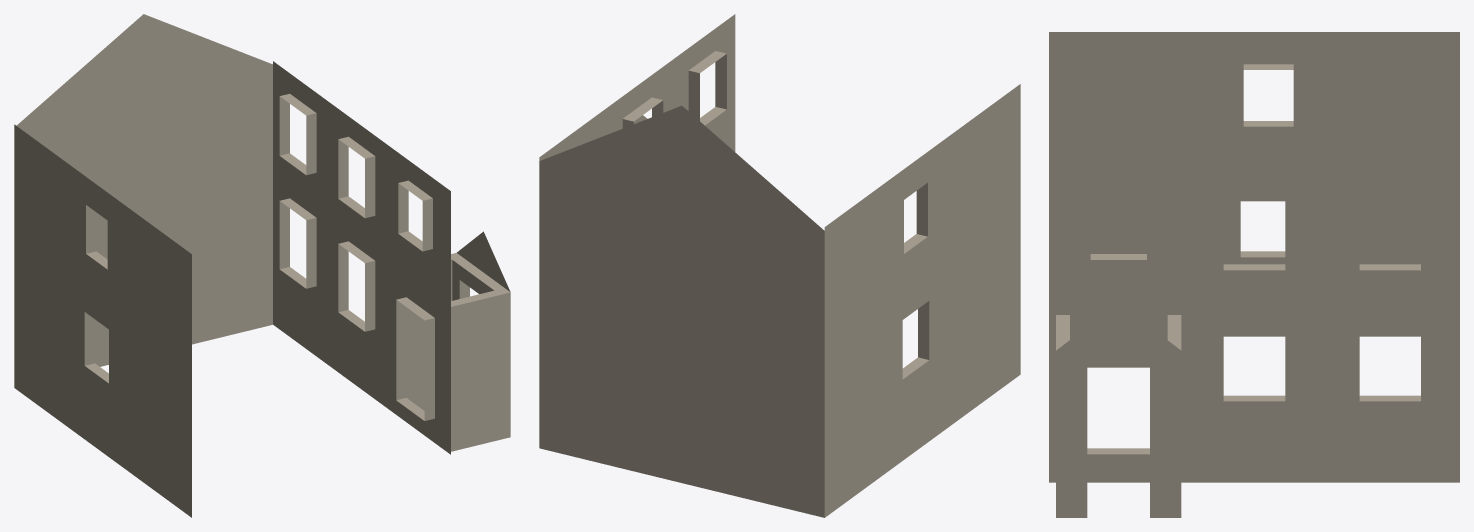
The model's file is SM_Bld_041_Render.glb.
3 views of the same model, side by side, from view 1: azimuth 30°, elevation 25°; view 2: azimuth 150°, elevation 25°; view 3: azimuth 270°, elevation 25° (orthographic). The views are drawn at different scales.
Parts seen in each view (by area): view 1: SM_Bld_041_Render; view 2: SM_Bld_041_Render; view 3: SM_Bld_041_Render.
Part boxes in pixels (<box>): SM_Bld_041_Render: <box>14,14,510,517</box>; SM_Bld_041_Render: <box>539,14,1020,517</box>; SM_Bld_041_Render: <box>1049,32,1459,517</box>.
Bounding box in the file's own units: 6.86 × 6.97 × 6.56.
